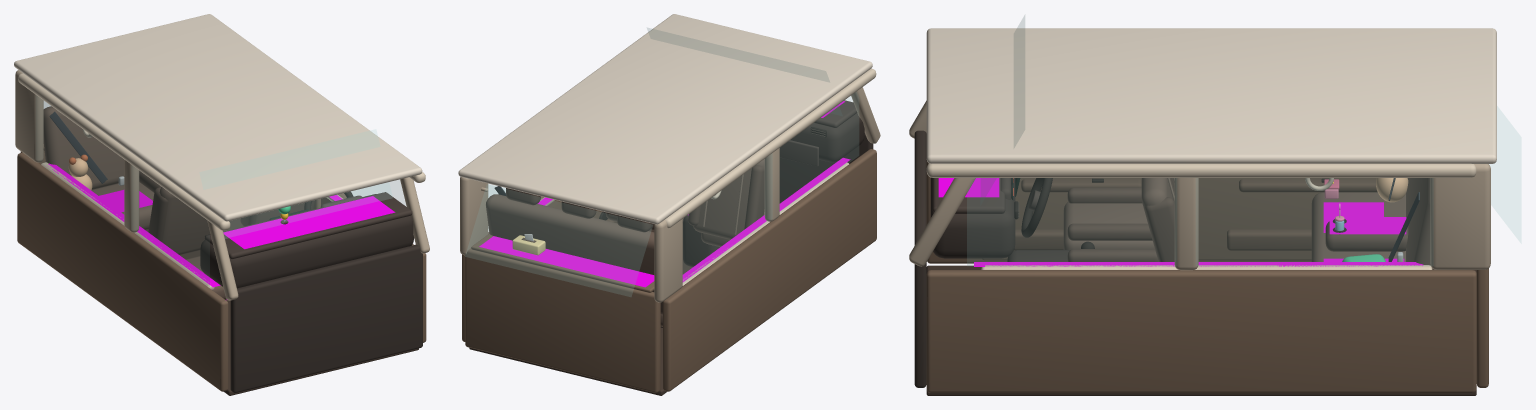
Rendered from Cabin.glb.
3 renders of one model, left to right at view 1: azimuth 30°, elevation 25°; view 2: azimuth 150°, elevation 25°; view 3: azimuth 270°, elevation 25°, orthographic. The views are drawn at different scales.
Parts seen in each view (by area): view 1: Headliner, Firewall, LowerWall_-1, Glass_R, Dashboard, Glass_Front, Walk_Dashboard, RearSeatBack, RoofRail_-1, DashTop, SeatBack_FR, PillarC_-1 (+12 smaller); view 2: Headliner, LowerWall_-1, BackWall, Glass_Back, Glass_R, RearSeatBack, RoofRail_-1, SeatBack_FR, Walk_RearShelf, PillarC_-1, Glass_Front, Dashboard (+16 smaller); view 3: Headliner, LowerWall_1, Glass_L, RoofRail_1, DoorPanel_RR, PillarC_1, Dashboard, Firewall, Glass_Back, Seat_FR, RearSeat, PillarB_1 (+27 smaller).
Boxes of the visible parts, bbox=[...] form: Headliner: bbox=[14, 14, 422, 221]; Firewall: bbox=[230, 244, 422, 392]; LowerWall_-1: bbox=[17, 152, 228, 391]; Glass_R: bbox=[36, 95, 209, 286]; Dashboard: bbox=[200, 215, 413, 288]; Glass_Front: bbox=[200, 129, 392, 238]; Walk_Dashboard: bbox=[223, 196, 395, 249]; RearSeatBack: bbox=[43, 106, 124, 189]; RoofRail_-1: bbox=[18, 73, 230, 230]; DashTop: bbox=[205, 192, 412, 259]; SeatBack_FR: bbox=[159, 187, 210, 254]; PillarC_-1: bbox=[15, 70, 43, 162]; Headliner: bbox=[458, 14, 872, 224]; LowerWall_-1: bbox=[663, 149, 876, 391]; BackWall: bbox=[465, 248, 660, 392]; Glass_Back: bbox=[465, 185, 652, 296]; Glass_R: bbox=[683, 92, 858, 283]; RearSeatBack: bbox=[486, 194, 662, 314]; RoofRail_-1: bbox=[665, 68, 876, 228]; SeatBack_FR: bbox=[693, 159, 764, 239]; Walk_RearShelf: bbox=[479, 236, 654, 287]; PillarC_-1: bbox=[654, 219, 682, 302]; Glass_Front: bbox=[647, 28, 841, 115]; Dashboard: bbox=[790, 113, 864, 162]; Headliner: bbox=[926, 28, 1496, 163]; LowerWall_1: bbox=[926, 270, 1476, 392]; Glass_L: bbox=[967, 178, 1432, 265]; RoofRail_1: bbox=[926, 163, 1476, 177]; DoorPanel_RR: bbox=[1198, 178, 1376, 260]; PillarC_1: bbox=[1430, 164, 1490, 269]; Dashboard: bbox=[930, 177, 1015, 258]; Firewall: bbox=[914, 130, 926, 387]; Glass_Back: bbox=[1489, 106, 1520, 242]; Seat_FR: bbox=[1063, 202, 1154, 249]; RearSeat: bbox=[1311, 192, 1405, 261]; PillarB_1: bbox=[1174, 178, 1198, 270].
Size of the model in its own units: 1.58 by 1.44 by 3.04.
